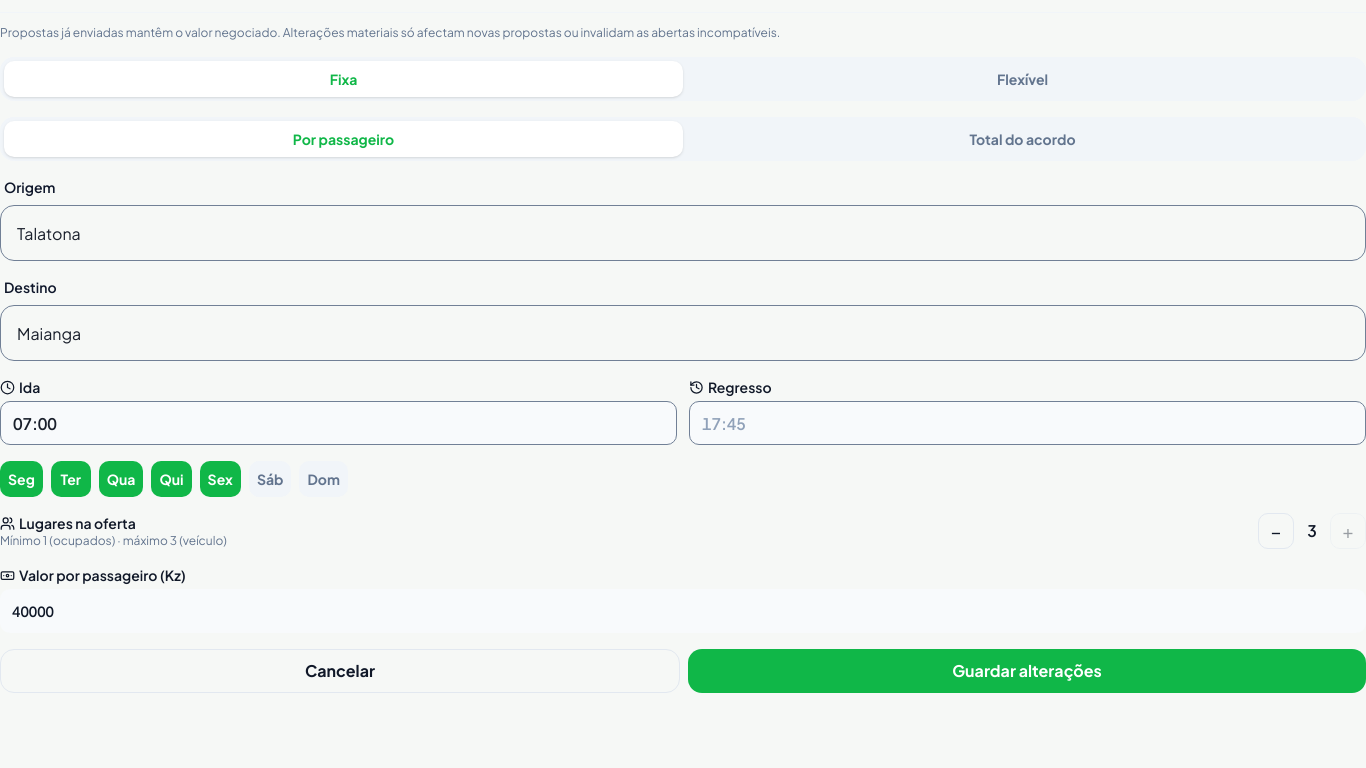
Test case: OfertaEditPanel › confirm com contagem quando propostas incompatíveis no contexto
The width and height of the screenshot is (1366, 768).
Replace the text in the field named "Hora de ida" with "09:30" at (338, 423), box left=0, top=401, right=677, bottom=445
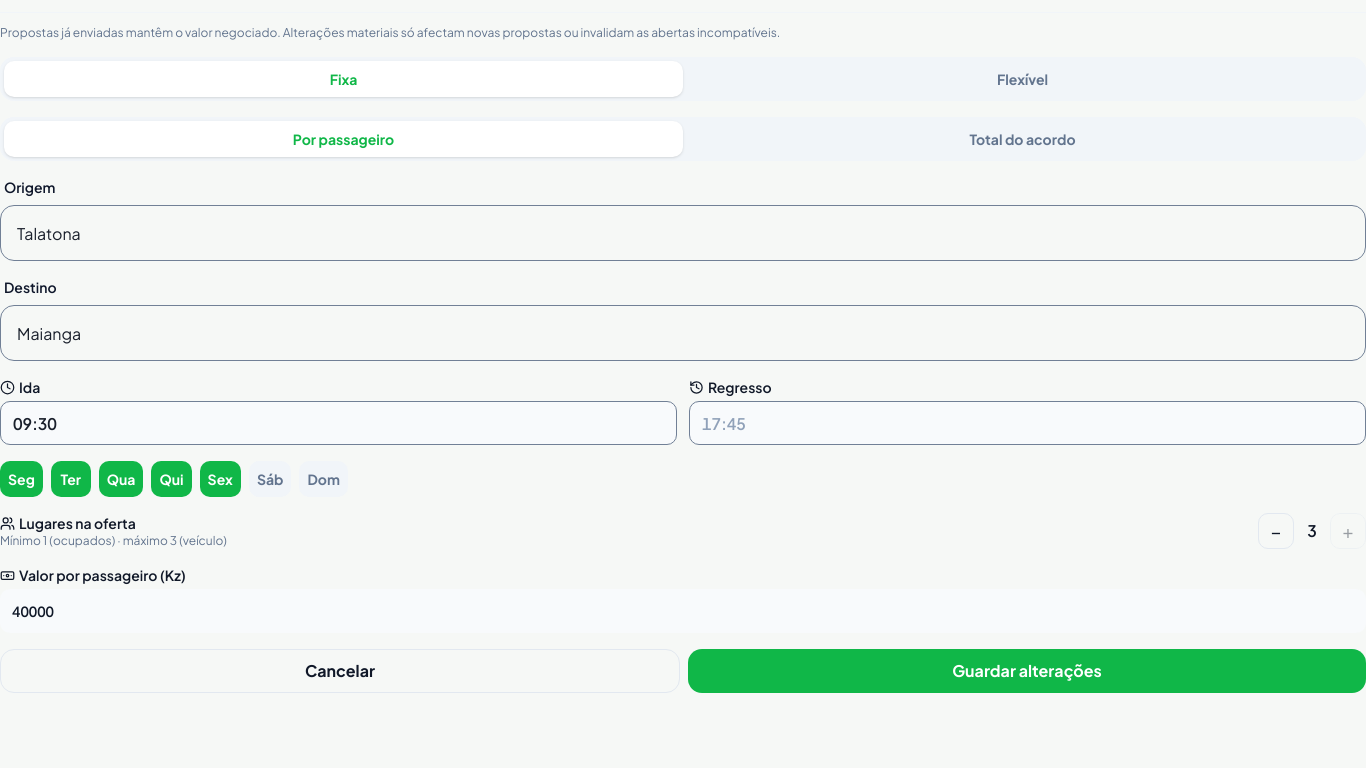
Click the button "Guardar alterações" at (1027, 671), box left=688, top=649, right=1365, bottom=693
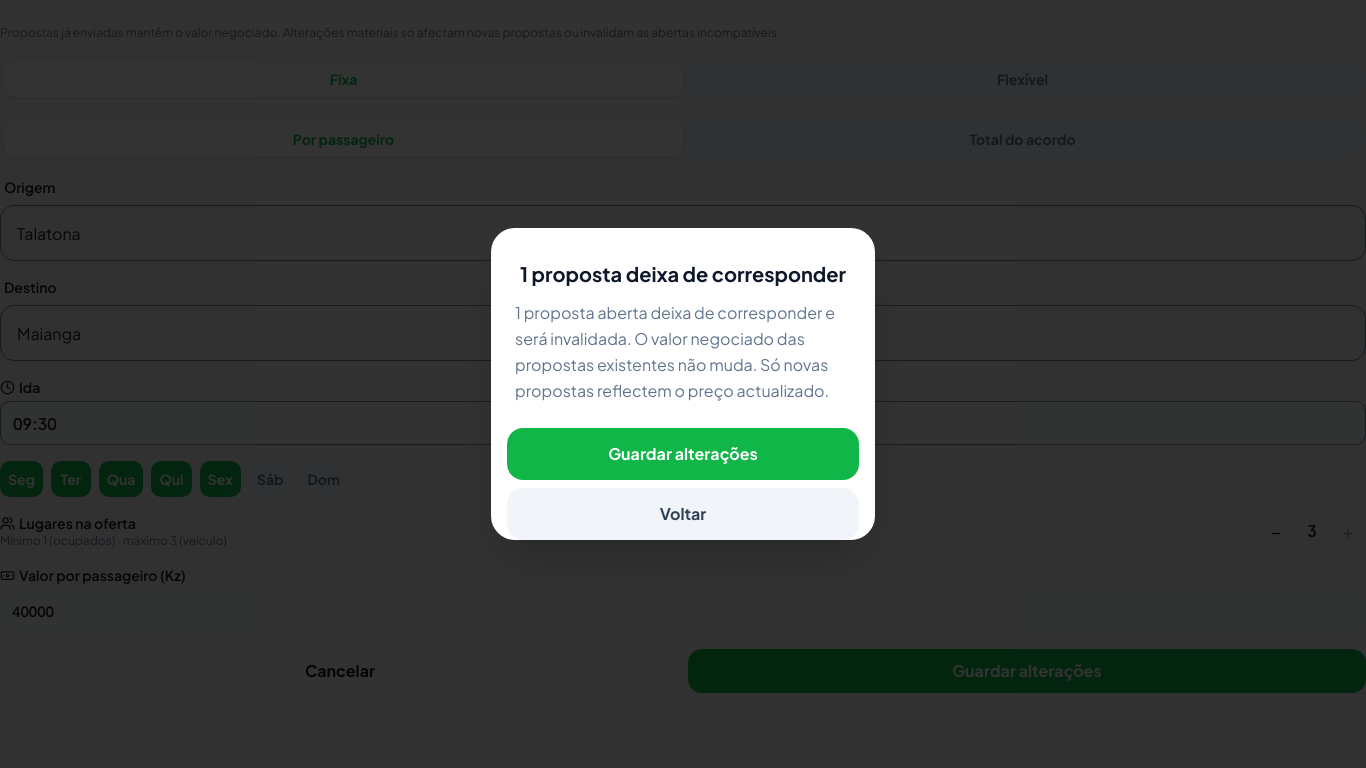
Expected: the heading "1 proposta deixa de corresponder" is shown, left=515, top=260, right=851, bottom=288
Expected: the text "1 proposta aberta deixa de corresponder e será invalidada" is shown, left=515, top=302, right=835, bottom=401
